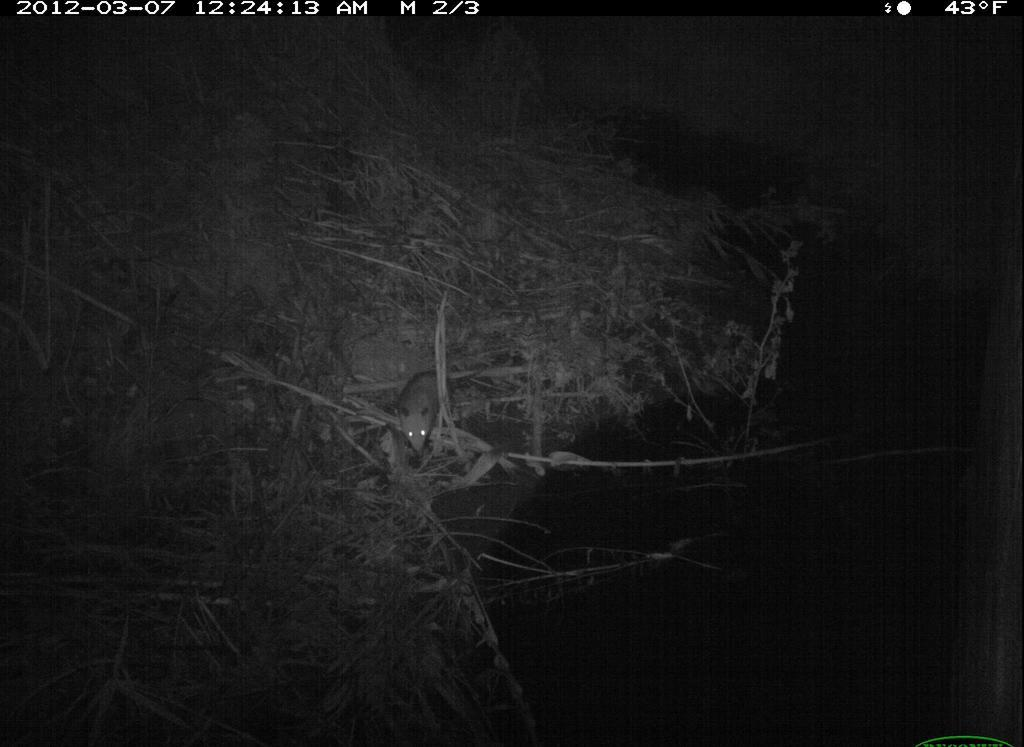opossum: (360, 365, 487, 465)
